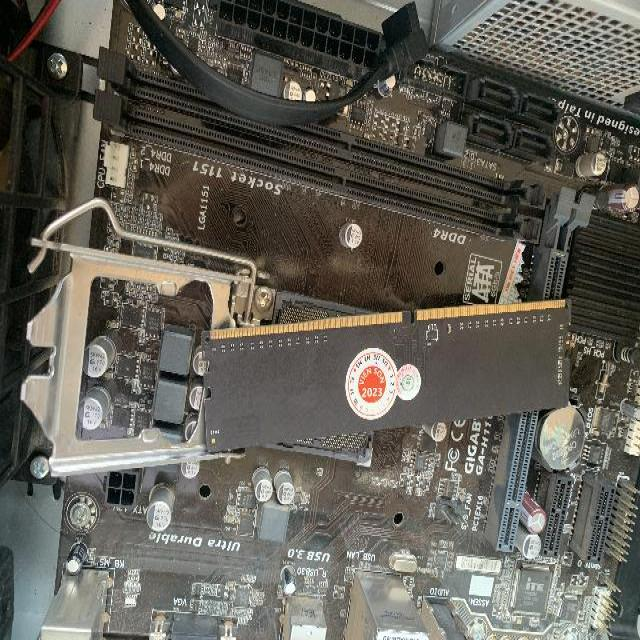Mainboard: (0, 50, 640, 640)
RAM: (200, 298, 573, 454)
